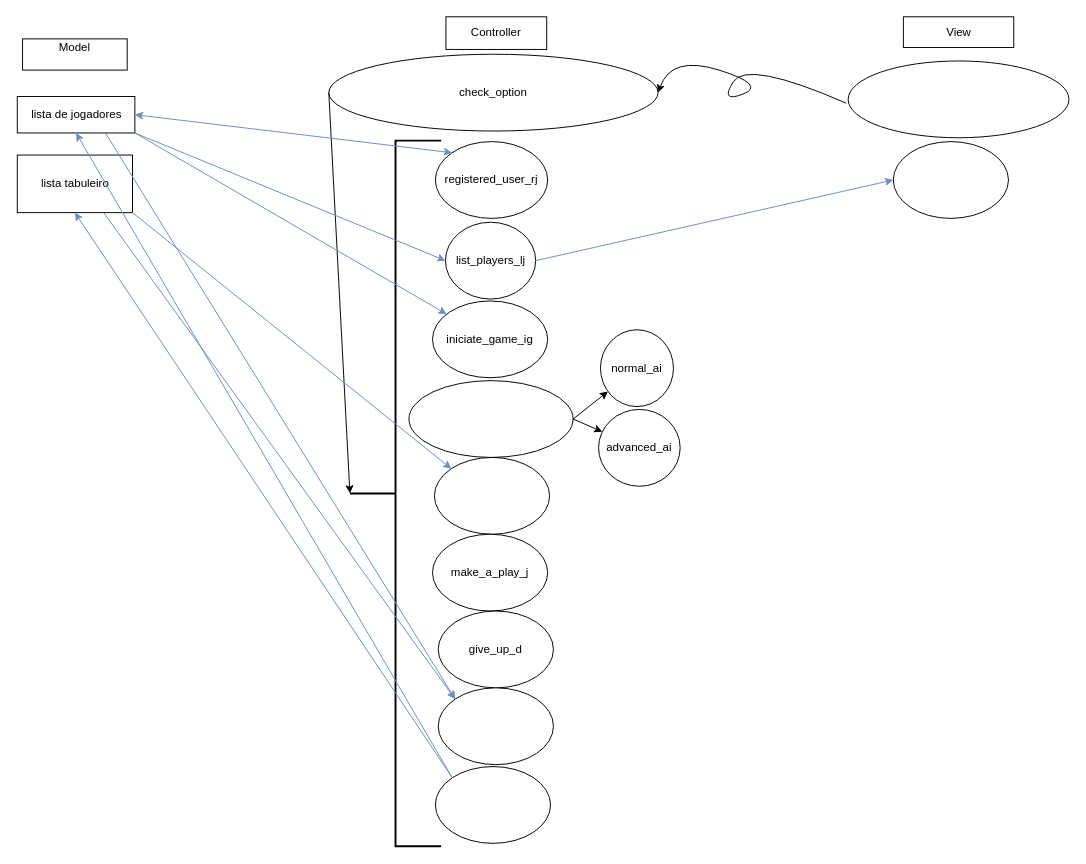
This 1086x864 diagram has some shape labels left out. Each missing label, with the centre of its shape:
"game_details_dj" goes at pixel 491 495.
"initiate_automatic_game_ija" goes at pixel 490 418.
"main: RJ/ LJ/ IJ/ IJA/ DJ/ J/ D/ G/ L" goes at pixel 958 99.
"output lista de jogadores" goes at pixel 950 179.
"read_game_l" goes at pixel 492 804.
"save_game_g" goes at pixel 495 726.
